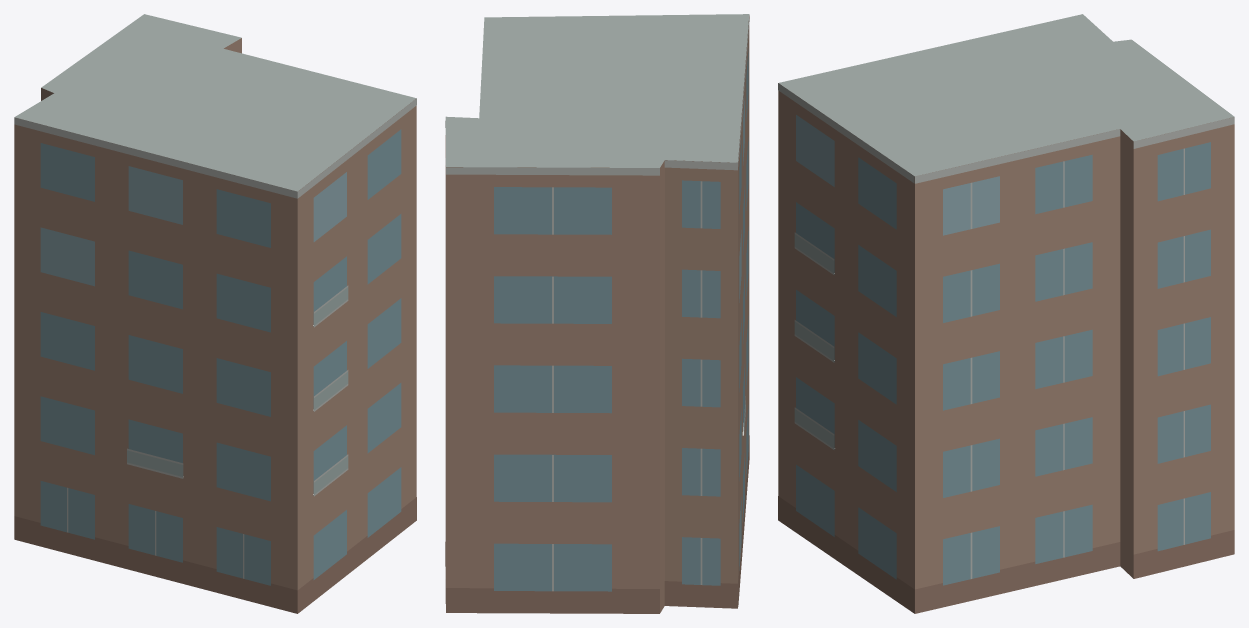
File: survey-upis-33004091.glb
3 views of the same model, side by side, from view 1: azimuth 30°, elevation 25°; view 2: azimuth 150°, elevation 25°; view 3: azimuth 270°, elevation 25° (orthographic). The views are drawn at different scales.
Visible parts, largest first — view 1: survey-upis-33004091.tmp; view 2: survey-upis-33004091.tmp; view 3: survey-upis-33004091.tmp.
Boxes of the visible parts, x1,y1,x2,y2 form: survey-upis-33004091.tmp: (14, 14, 416, 613); survey-upis-33004091.tmp: (445, 14, 749, 613); survey-upis-33004091.tmp: (778, 14, 1234, 613).
Bounding box in the file's own units: 11.48 × 14.4 × 13.63.
